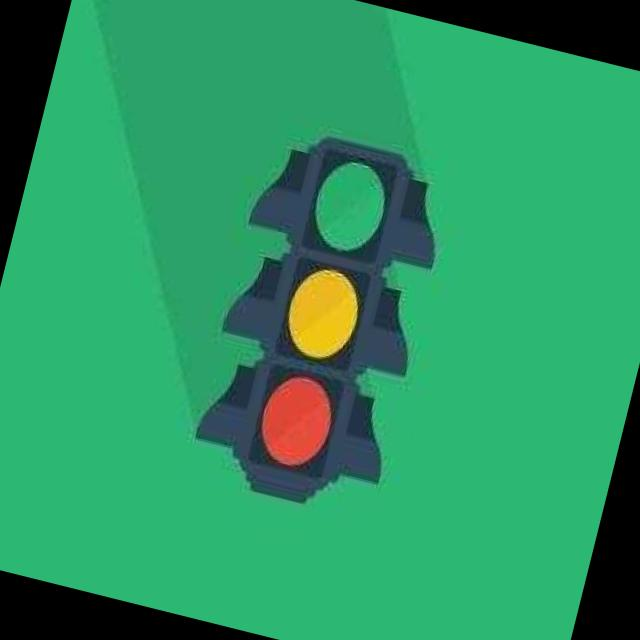green-lights: (294, 138, 402, 268)
red-lights: (244, 358, 344, 479)
yellow-lights: (270, 250, 376, 374)
